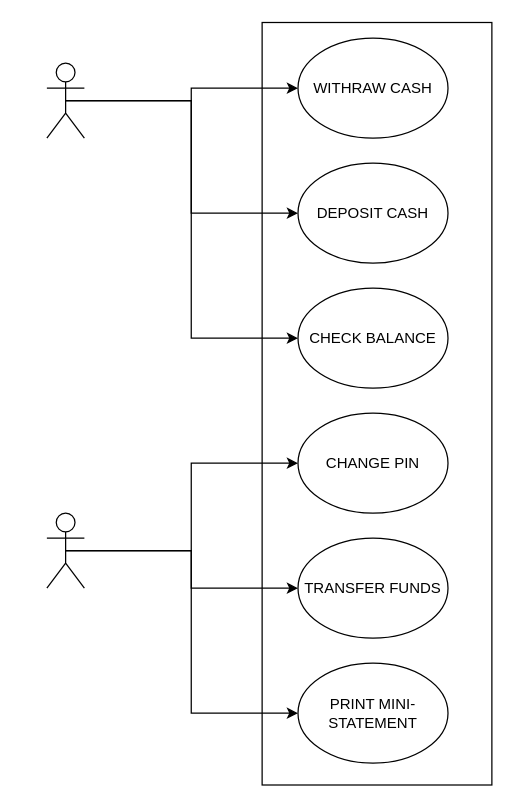
The diagram is 515 pixels wide and 806 high, and some of its shapes have lost their labels. The shapes that lost their labels are listed below. From the top down, each one's box as (x1, y1, x2, y2) in pixels, then its label:
(46, 62, 84, 138): Customer
(46, 512, 84, 588): Bank System
